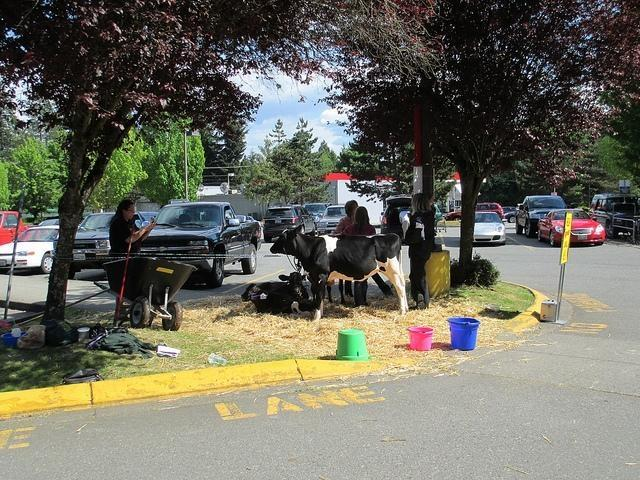car: (0, 226, 61, 275), (536, 208, 606, 246), (264, 206, 314, 236), (473, 212, 508, 247), (0, 211, 34, 247), (444, 204, 505, 222), (316, 203, 348, 235), (303, 201, 333, 224), (296, 204, 316, 236), (38, 216, 59, 224), (504, 211, 516, 223)
truck: (140, 202, 262, 287), (514, 196, 569, 239)
